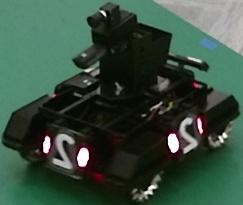armor_2: (43, 136, 89, 167), (168, 118, 203, 154)
front_2: (49, 129, 77, 175)
left_2: (180, 114, 199, 154)
